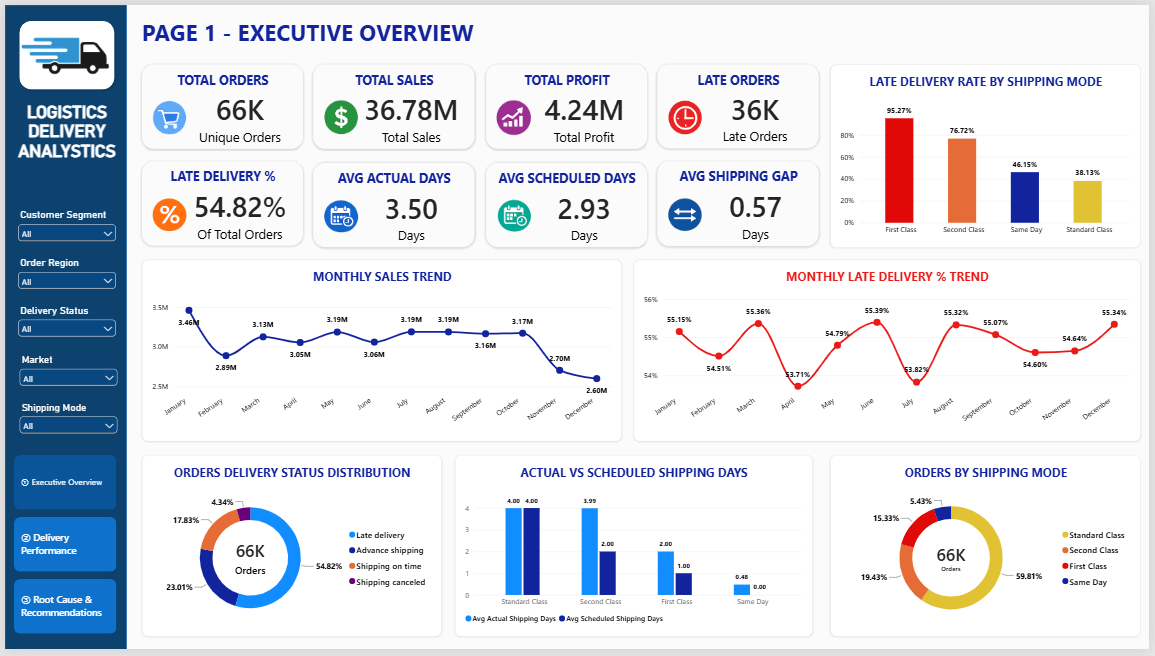

The page's visual inventory and layout, read from the dashboard file:
{"tool":"powerbi","page":{"name":"① Executive Overview","canvas":[1920,1080],"ordinal":0},"visuals":[{"type":"cardVisual","fields":{"Data":["public logistic.Total Orders"]},"box":[230,100,270,141],"z":0},{"type":"cardVisual","fields":{"Data":["public logistic.Total Sales"]},"box":[518.3,99.7,270,141],"z":1000},{"type":"cardVisual","fields":{"Data":["public logistic.Total Profit"]},"box":[806.7,99.3,270,141],"z":2000},{"type":"cardVisual","fields":{"Data":["public logistic.Late Delivery %"]},"box":[230,263.6,270,141],"z":3000},{"type":"cardVisual","fields":{"Data":["public logistic.Avg Actual Shipping Days"]},"box":[518.3,264.3,270,141],"z":4000},{"type":"cardVisual","fields":{"Data":["public logistic.Avg Shipping Gap"]},"box":[1095,262.5,270,141.4],"z":5000},{"type":"cardVisual","fields":{"Data":["public logistic.Avg Scheduled Shipping Days"]},"box":[806.7,265,270,141],"z":6000},{"type":"lineChart","title":"MONTHLY SALES TREND","fields":{"Category":["public logistic.order date (DateOrders).Variation.Date Hierarchy.Year","public logistic.order date (DateOrders).Variation.Date Hierarchy.Month"],"Y":["public logistic.Total Sales"]},"box":[230,427.5,805,305],"z":7000},{"type":"lineChart","title":"MONTHLY LATE DELIVERY % TREND","fields":{"Category":["public logistic.order date (DateOrders).Variation.Date Hierarchy.Year","public logistic.order date (DateOrders).Variation.Date Hierarchy.Month"],"Y":["public logistic.Late Delivery %"]},"box":[1055,427.5,850,305],"z":8000},{"type":"clusteredColumnChart","title":"LATE DELIVERY RATE BY SHIPPING MODE","fields":{"Category":["public logistic.Shipping Mode"],"Y":["public logistic.Late Delivery %"]},"box":[1385,100,520,307.5],"z":9000},{"type":"cardVisual","fields":{"Data":["public logistic.Late Orders"]},"box":[1095,100,270,140],"z":10000},{"type":"textbox","box":[230,20,1006.7,70],"z":11000},{"type":"shape","box":[0,0,204.3,1440],"z":12000},{"type":"shape","box":[17.1,20,172.9,128.6],"z":13000},{"type":"image","box":[22.9,5.7,161.4,155.7],"z":14000},{"type":"textbox","box":[17.1,161.4,172.9,101.4],"z":15000},{"type":"pageNavigator","box":[15,755,172.5,302.5],"z":16000},{"type":"clusteredColumnChart","title":"ACTUAL VS SCHEDULED SHIPPING DAYS","fields":{"Category":["public logistic.Shipping Mode"],"Y":["public logistic.Avg Actual Shipping Days","public logistic.Avg Scheduled Shipping Days"]},"box":[755,755,600,305],"z":17000},{"type":"donutChart","title":"ORDERS DELIVERY STATUS DISTRIBUTION","fields":{"Category":["public logistic.Delivery Status"],"Y":["public logistic.Total Orders"]},"box":[230,755,502.5,305],"z":18000},{"type":"donutChart","title":"ORDERS BY SHIPPING MODE","fields":{"Category":["public logistic.Shipping Mode"],"Y":["public logistic.Total Orders"]},"box":[1385,755,520,305],"z":19000},{"type":"slicer","fields":{"Values":["public logistic.Customer Segment"]},"box":[16.7,341.7,173.3,66.7],"z":20000},{"type":"slicer","fields":{"Values":["public logistic.Order Region"]},"box":[17.5,422.5,173.3,66.7],"z":20001},{"type":"slicer","fields":{"Values":["public logistic.Delivery Status"]},"box":[18.3,503.3,173.3,66.7],"z":20002},{"type":"slicer","fields":{"Values":["public logistic.Market"]},"box":[20,584.2,173.3,66.7],"z":20003},{"type":"slicer","fields":{"Values":["public logistic.Shipping Mode"]},"box":[19.2,665,173.3,66.7],"z":20004}]}

Visuals, with their boxes on the page's 1920x1080 design canvas (x1, y1, x2, y2). These are canvas units, not pixel positions in the 1155x656 screenshot, which may show the page scaled, cropped or inside an application window:
cardVisual - public logistic.Total Orders: select_region(230, 100, 500, 241)
cardVisual - public logistic.Total Sales: select_region(518, 100, 788, 241)
cardVisual - public logistic.Total Profit: select_region(807, 99, 1077, 240)
cardVisual - public logistic.Late Delivery %: select_region(230, 264, 500, 405)
cardVisual - public logistic.Avg Actual Shipping Days: select_region(518, 264, 788, 405)
cardVisual - public logistic.Avg Shipping Gap: select_region(1095, 262, 1365, 404)
cardVisual - public logistic.Avg Scheduled Shipping Days: select_region(807, 265, 1077, 406)
"MONTHLY SALES TREND" lineChart: select_region(230, 428, 1035, 732)
"MONTHLY LATE DELIVERY % TREND" lineChart: select_region(1055, 428, 1905, 732)
"LATE DELIVERY RATE BY SHIPPING MODE" clusteredColumnChart: select_region(1385, 100, 1905, 408)
cardVisual - public logistic.Late Orders: select_region(1095, 100, 1365, 240)
textbox: select_region(230, 20, 1237, 90)
shape: select_region(0, 0, 204, 1440)
shape: select_region(17, 20, 190, 149)
image: select_region(23, 6, 184, 161)
textbox: select_region(17, 161, 190, 263)
pageNavigator: select_region(15, 755, 188, 1058)
"ACTUAL VS SCHEDULED SHIPPING DAYS" clusteredColumnChart: select_region(755, 755, 1355, 1060)
"ORDERS DELIVERY STATUS DISTRIBUTION" donutChart: select_region(230, 755, 732, 1060)
"ORDERS BY SHIPPING MODE" donutChart: select_region(1385, 755, 1905, 1060)
slicer - public logistic.Customer Segment: select_region(17, 342, 190, 408)
slicer - public logistic.Order Region: select_region(18, 422, 191, 489)
slicer - public logistic.Delivery Status: select_region(18, 503, 192, 570)
slicer - public logistic.Market: select_region(20, 584, 193, 651)
slicer - public logistic.Shipping Mode: select_region(19, 665, 192, 732)
